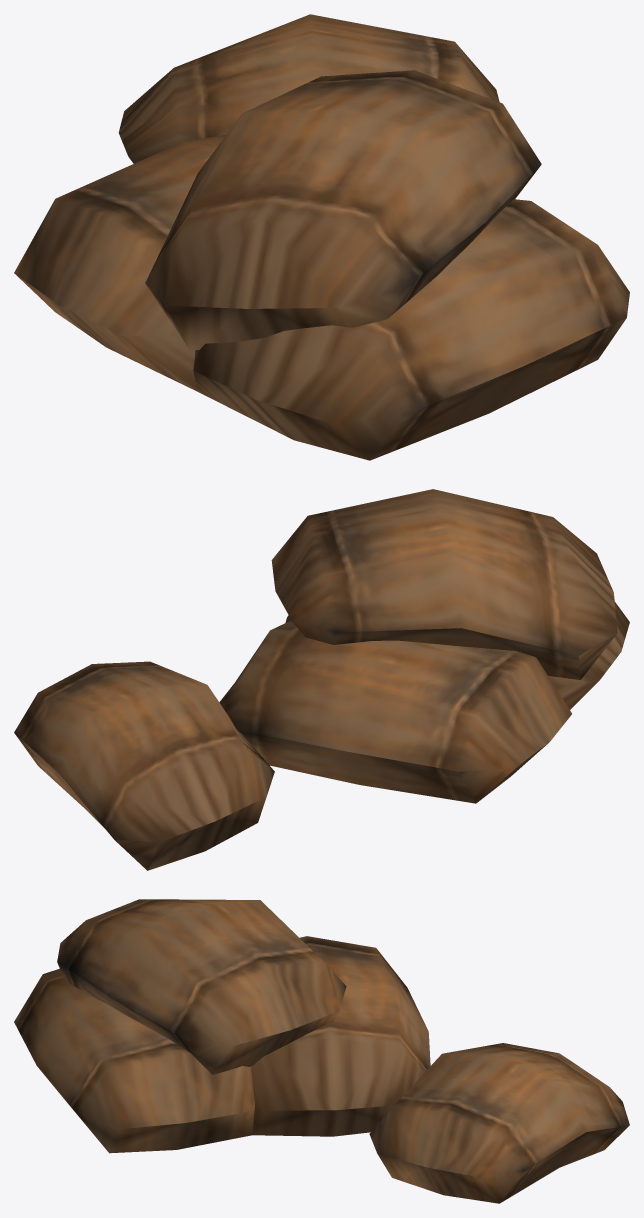
File: handan_field_a_r04.fbx
3 renders of one model, top to bottom at view 1: azimuth 30°, elevation 25°; view 2: azimuth 150°, elevation 25°; view 3: azimuth 270°, elevation 25°, orthographic. The views are drawn at different scales.
Visible parts, largest first — view 1: handan_field_a_r04; view 2: handan_field_a_r04; view 3: handan_field_a_r04.
Boxes of the visible parts, x1=… form: handan_field_a_r04: x1=14, y1=14, x2=629, y2=460; handan_field_a_r04: x1=14, y1=489, x2=629, y2=870; handan_field_a_r04: x1=14, y1=899, x2=629, y2=1203.
Bounding box in the file's own units: 220 × 109 × 292.
